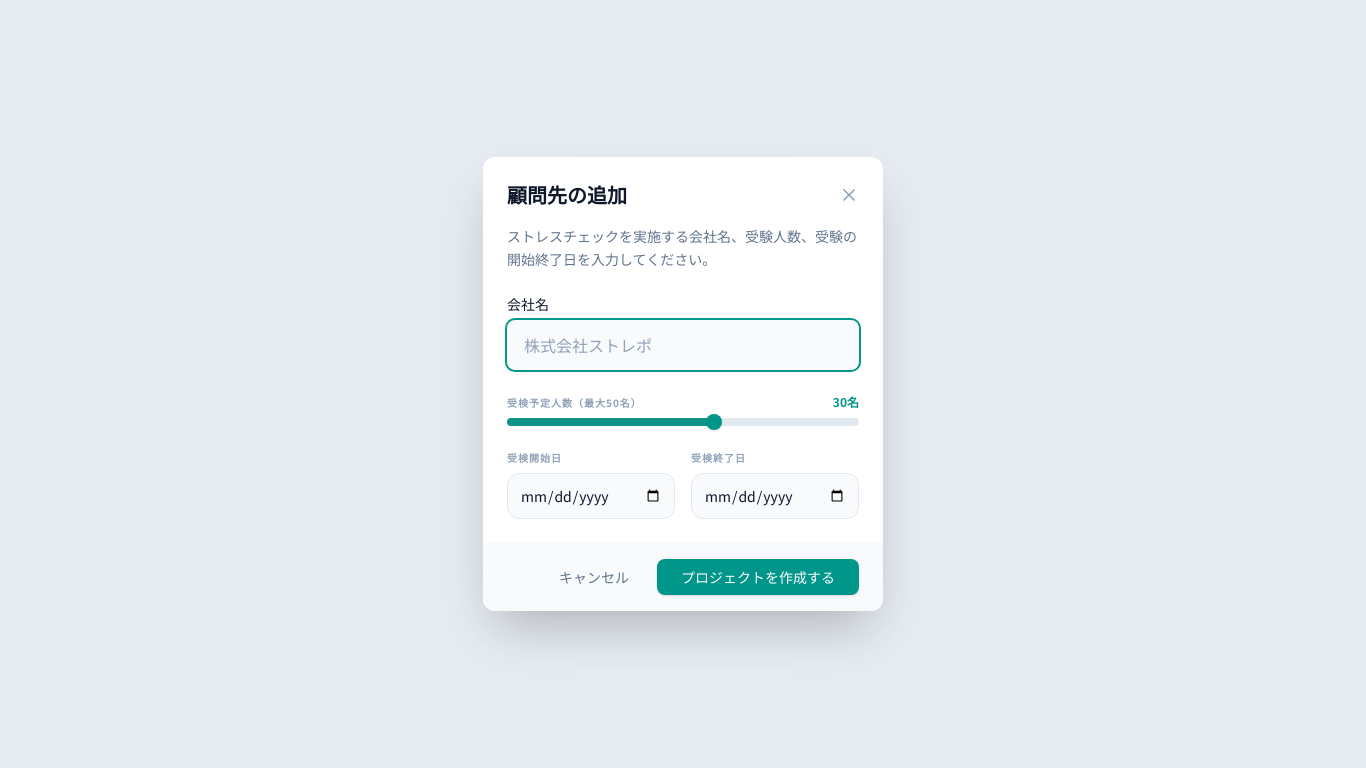
NewProjectModal - 日付バリデーション › 終了日が開始日より前の場合、エラーメッセージが表示される
This screenshot has width=1366, height=768.
Type "テスト株式会社" into the field labelled "会社名" at (683, 345), box 507,320 -> 859,370
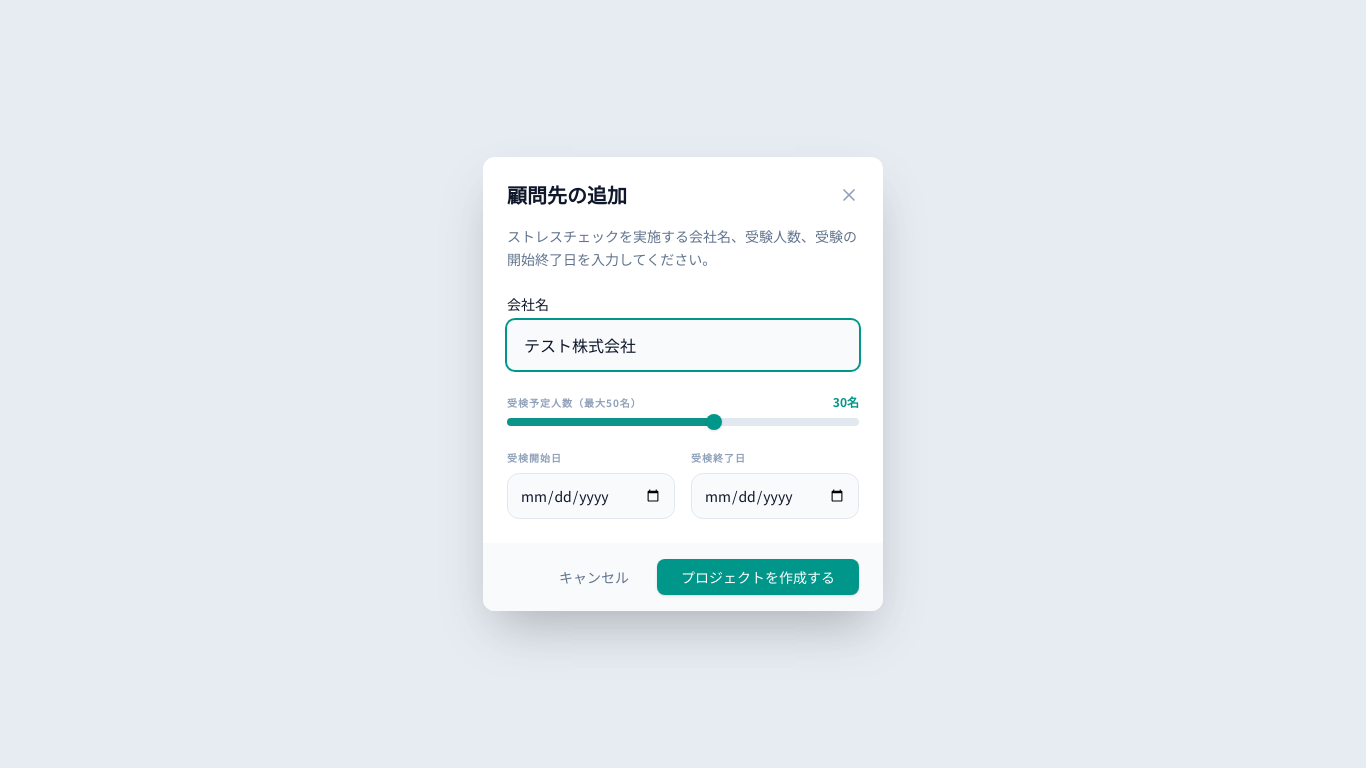
Type "2026-05-31" into the date field labelled "受検開始日" at (591, 496), box 507,473 -> 675,519
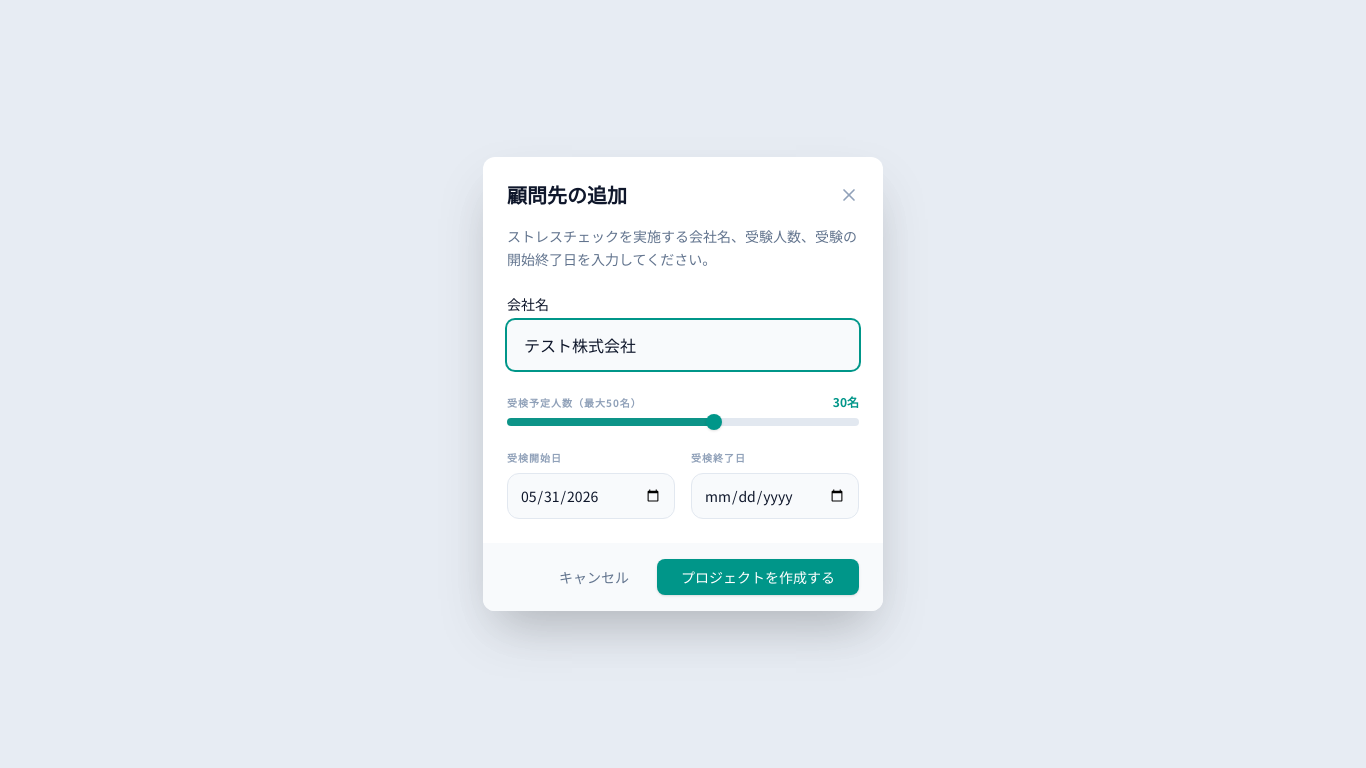
Type "2026-05-01" into the date field labelled "受検終了日" at (775, 496), box 691,473 -> 859,519
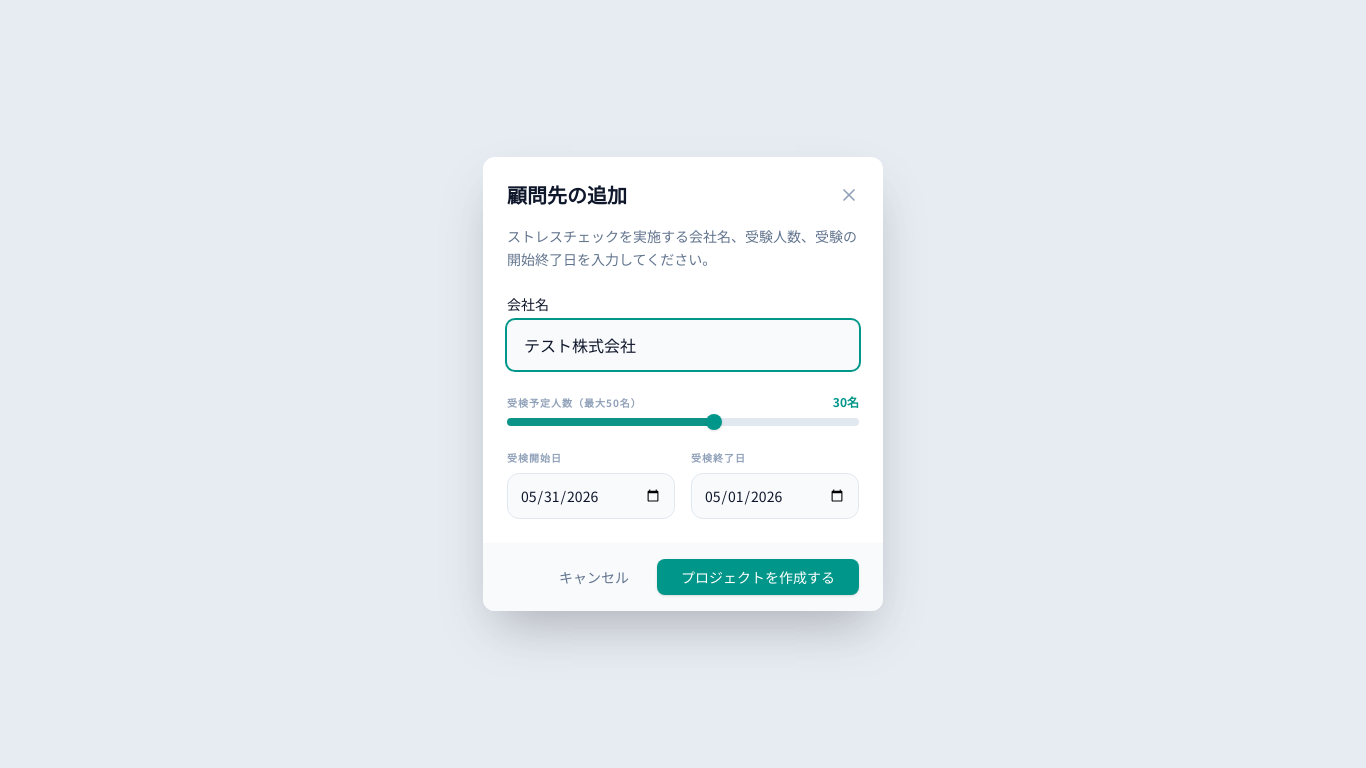
Click the button "プロジェクトを作成する" at (758, 577), box 657,559 -> 859,595
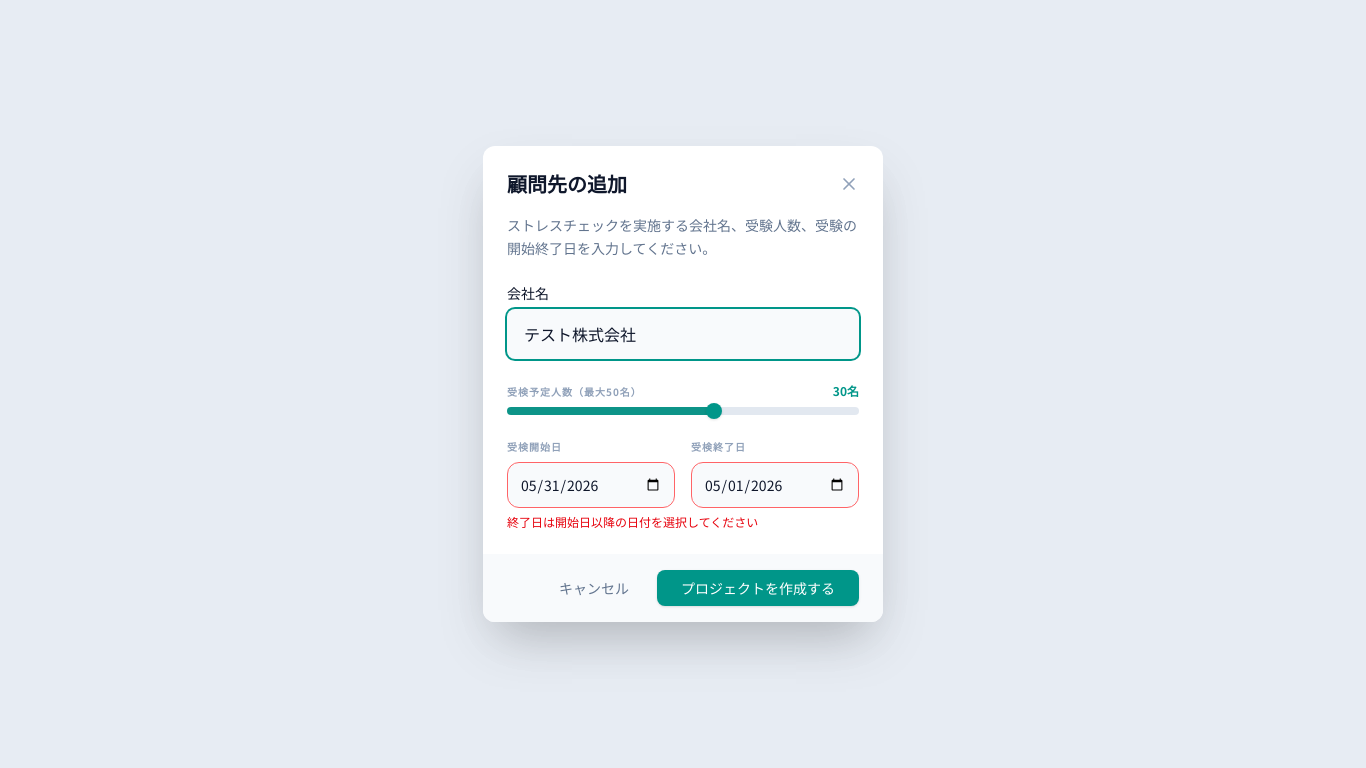
Check: the message reads "終了日は開始日以降の日付を選択してください", box 507,513 -> 758,530
